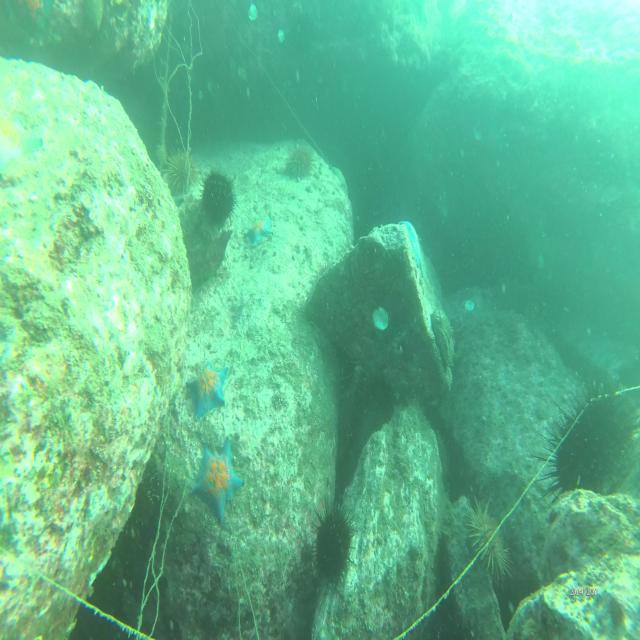echinus: (553, 387, 628, 494), (467, 492, 511, 580), (312, 498, 354, 584), (200, 168, 236, 227), (166, 150, 197, 195), (286, 145, 312, 182)
starfish: (189, 435, 242, 522), (185, 360, 229, 421), (0, 117, 42, 175), (399, 221, 426, 273), (246, 215, 275, 253)
